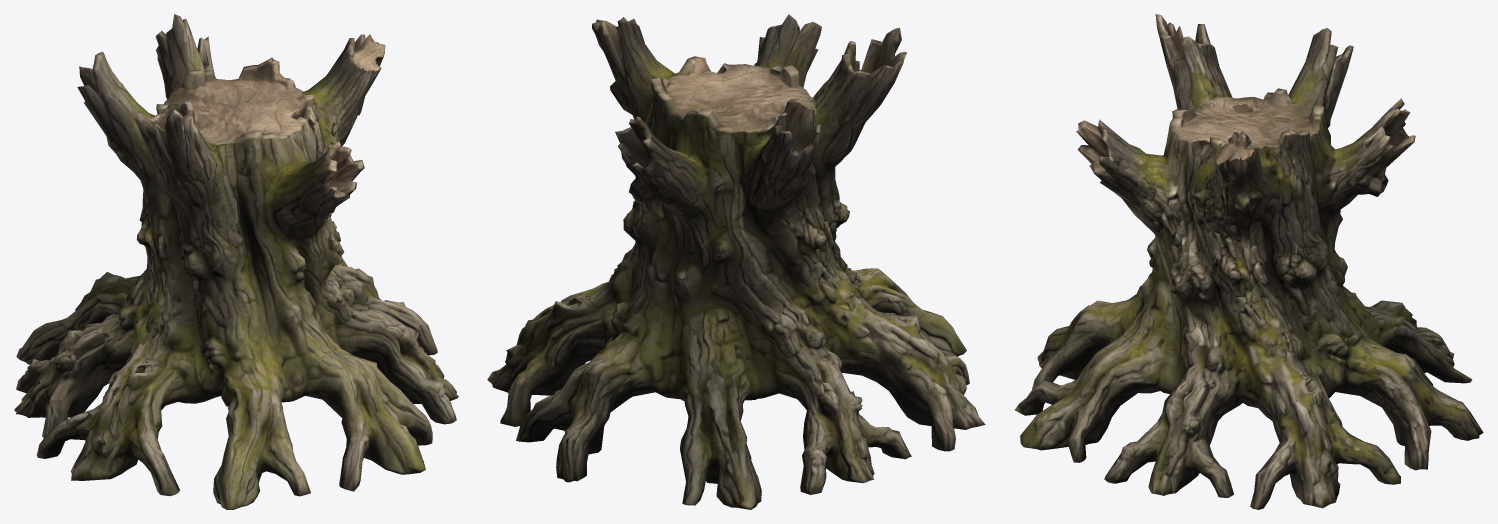
Rendered from GiantTreeTrunk.gltf.
3 views of the same model, side by side, from view 1: azimuth 30°, elevation 25°; view 2: azimuth 150°, elevation 25°; view 3: azimuth 270°, elevation 25° (orthographic). The views are drawn at different scales.
Parts seen in each view (by area): view 1: lo; view 2: lo; view 3: lo.
Boxes of the visible parts, box(x1,y1,x2,y2) form: lo: box(14, 14, 458, 509); lo: box(487, 14, 985, 509); lo: box(1014, 14, 1483, 509).
Size of the model in its own units: 20 by 16.48 by 20.28.
Materials: 1 (1 with a texture image).
